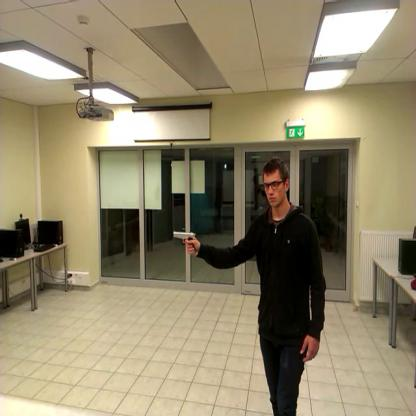Pistol: (169, 222, 201, 267)
